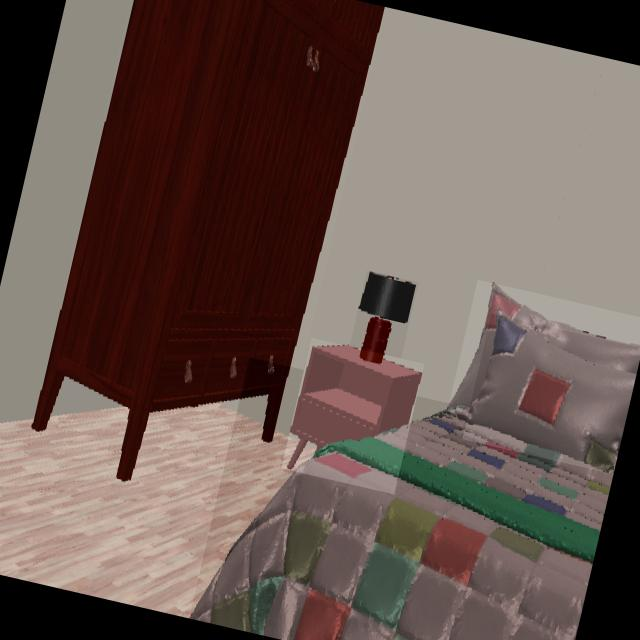bed: (189, 406, 613, 640)
lamp: (357, 271, 417, 365)
nighttable: (287, 345, 422, 469)
pillow: (468, 316, 636, 471), (447, 283, 640, 410)
wardrobe: (31, 0, 385, 481)
